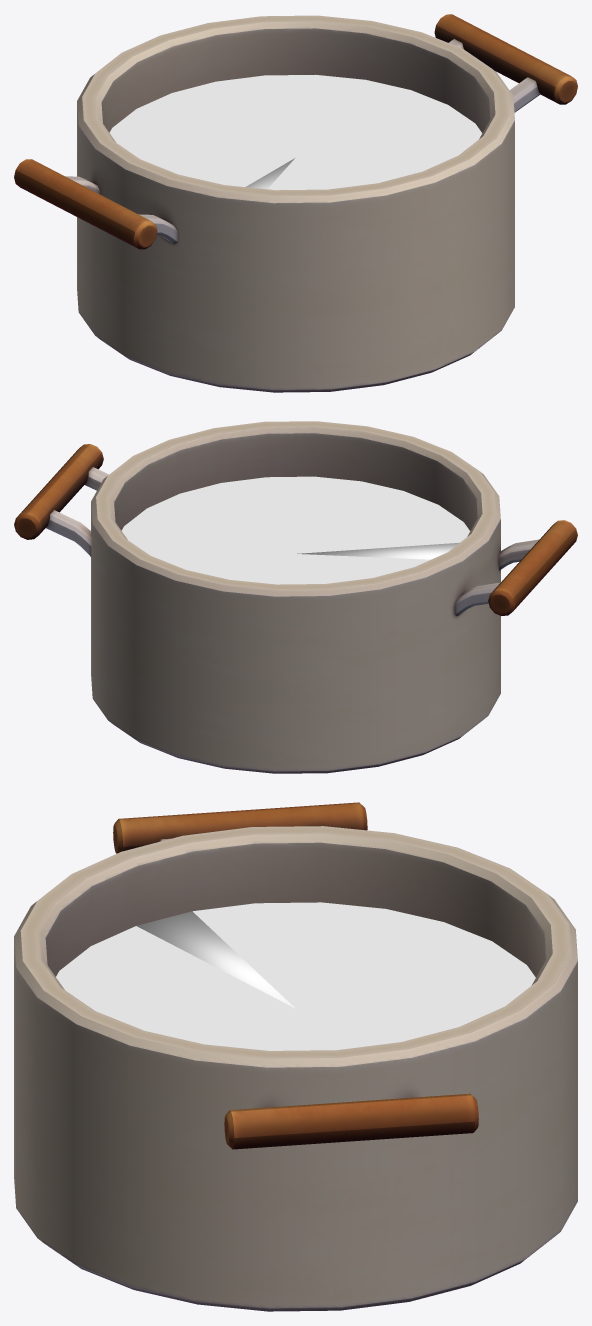
Rendered from ricepot.glb.
3 views of the same model, one above another, from view 1: azimuth 30°, elevation 25°; view 2: azimuth 150°, elevation 25°; view 3: azimuth 270°, elevation 25° (orthographic). The views are drawn at different scales.
Parts seen in each view (by area): view 1: utensils_pot; view 2: utensils_pot; view 3: utensils_pot.
Part boxes in pixels (x1,y1,x2,y2): utensils_pot: (14, 14, 577, 392); utensils_pot: (14, 421, 577, 773); utensils_pot: (14, 802, 577, 1311).
Size of the model in its own units: 1.72 by 0.6237 by 1.26.
Materials: 2 (1 with a texture image).
